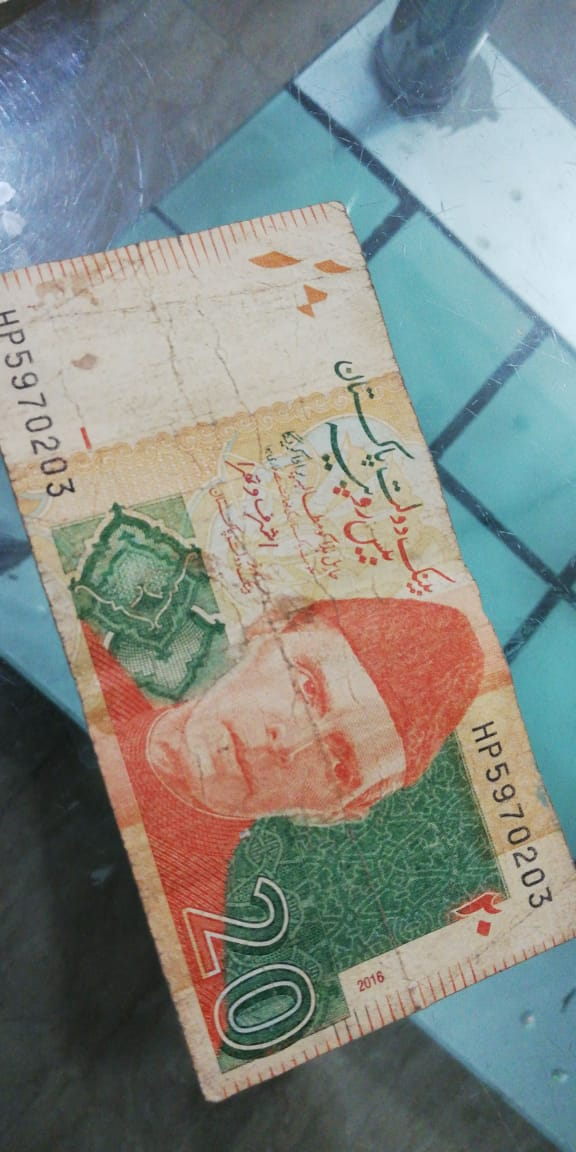20 rupee: (0, 176, 563, 1115)
